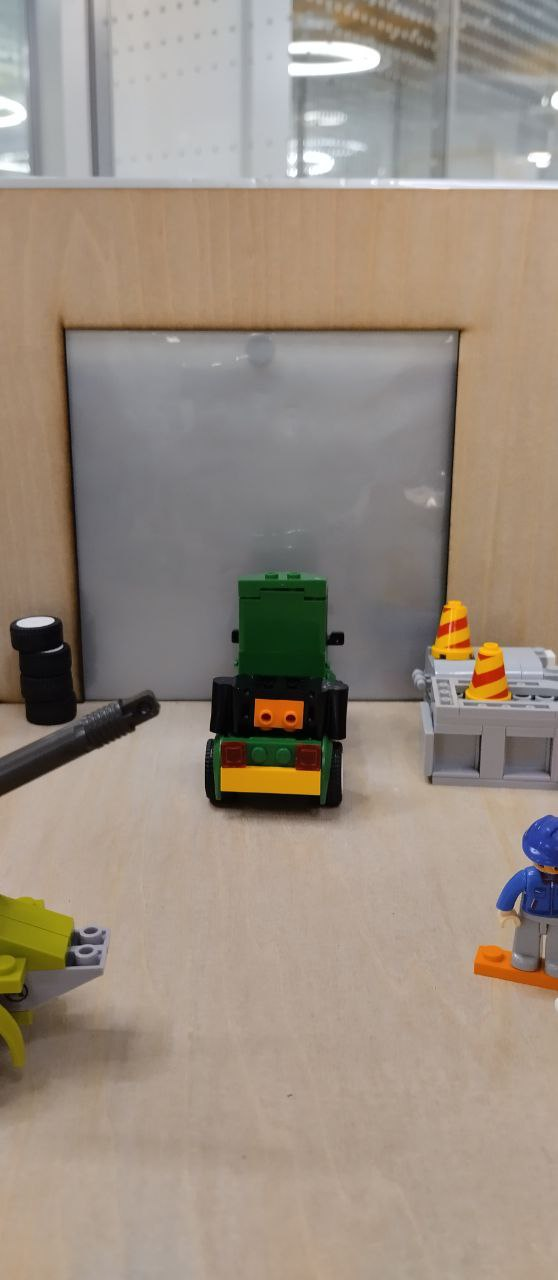Cone: (468, 641, 510, 704), (433, 599, 475, 661)
Object Black: (209, 671, 347, 739)
Truck: (202, 569, 353, 809)
